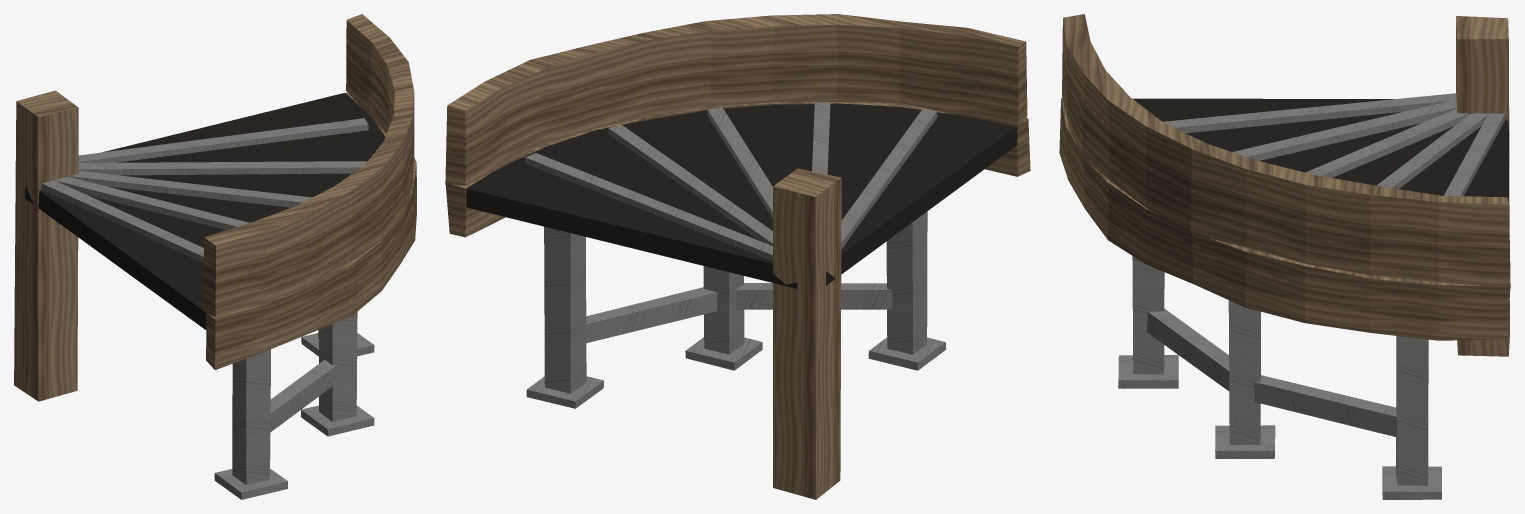
The model's file is conveyor_corner.glb.
3 views of the same model, side by side, from view 1: azimuth 30°, elevation 25°; view 2: azimuth 150°, elevation 25°; view 3: azimuth 270°, elevation 25° (orthographic). The views are drawn at different scales.
Visible parts, largest first — view 1: ConveyorCorner; view 2: ConveyorCorner; view 3: ConveyorCorner.
Boxes of the visible parts, box(x1,y1,x2,y2) form: ConveyorCorner: box(14, 14, 416, 499); ConveyorCorner: box(445, 14, 1030, 499); ConveyorCorner: box(1059, 14, 1510, 499).
Size of the model in its own units: 1.69 by 1.33 by 1.69.
3 materials, 2 textured.
